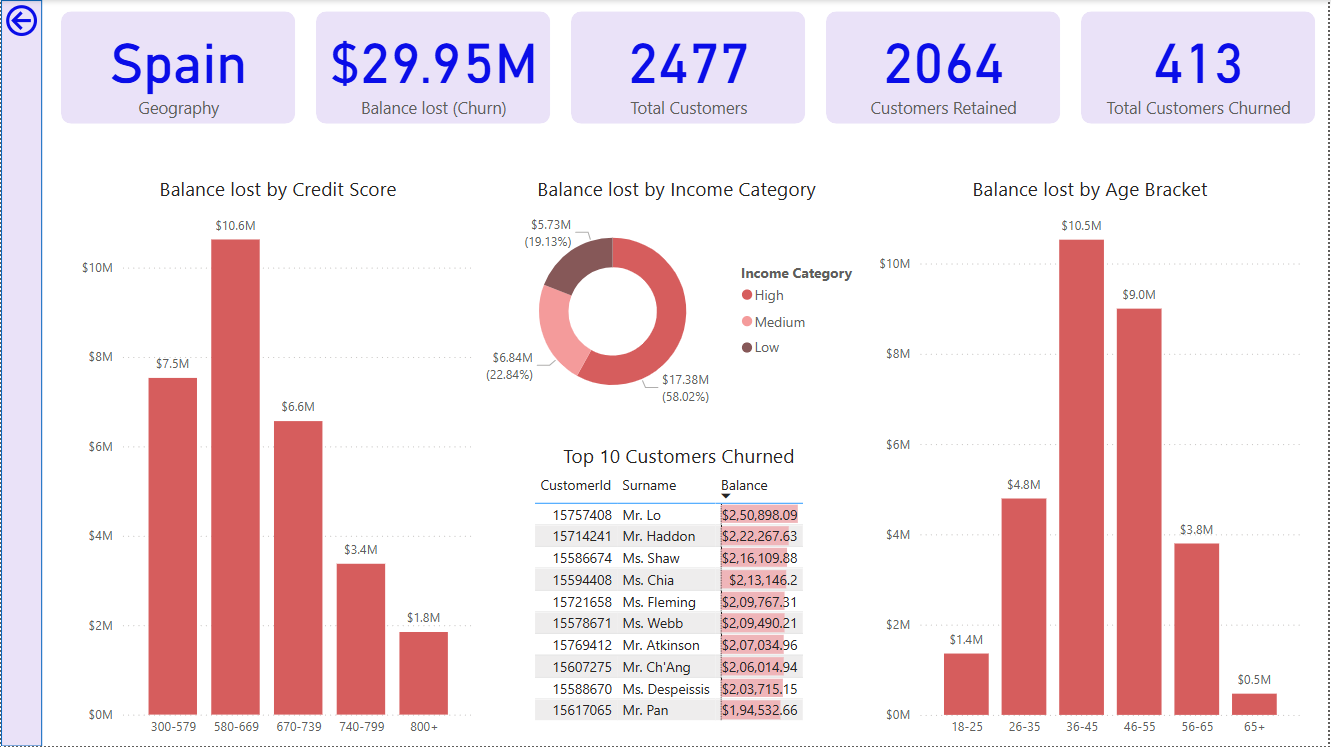

The page's visual inventory and layout, read from the dashboard file:
{"tool":"powerbi","page":{"name":"Churn Balance (Drillthrough)","canvas":[1280,720],"ordinal":3},"visuals":[{"type":"shape","box":[0,0,39.7,720.5],"z":0},{"type":"actionButton","box":[0,0,100,39.7],"z":1000},{"type":"shape","box":[57.9,10.9,226.1,108.7],"z":1000,"group":"g5"},{"type":"shape","box":[304.3,10.9,226.1,108.7],"z":1000,"group":"g4"},{"type":"shape","box":[550.3,10.9,226.1,108.7],"z":1000,"group":"g2"},{"type":"shape","box":[796.2,10.9,226.1,108.7],"z":1000,"group":"g3"},{"type":"shape","box":[1042.2,10.9,226.1,108.7],"z":1000,"group":"g1"},{"type":"donutChart","title":"Balance lost by Income Category","fields":{"Y":["Measure Table.Balance lost (Churn)"],"Category":["Bank_Churn.Income Category"]},"box":[462.1,168.9,380,238.9],"z":2000},{"type":"clusteredColumnChart","title":"Balance lost by Age Bracket","fields":{"Category":["Bank_Churn.Age Bracket"],"Y":["Measure Table.Balance lost (Churn)"]},"box":[842.3,169.2,417.9,551.3],"z":3000},{"type":"clusteredColumnChart","title":"Balance lost by Credit Score","fields":{"Y":["Measure Table.Balance lost (Churn)"],"Category":["Bank_Churn.Credit Score"]},"box":[72,169,390,551],"z":4000},{"type":"tableEx","title":"Top 10 Customers Churned","fields":{"Values":["Bank_Churn.CustomerId","Bank_Churn.Surname","Bank_Churn.Balance"]},"box":[494.3,427.1,304.3,292.9],"z":5000},{"type":"group","id":"g1","title":"Group 2","box":[1042.2,10.9,226.1,108.7],"z":6000,"group":"g6"},{"type":"group","id":"g2","title":"Group 2","box":[550.3,10.9,226.1,108.7],"z":7000,"group":"g6"},{"type":"group","id":"g3","title":"Group 2","box":[796.2,10.9,226.1,108.7],"z":8000,"group":"g6"},{"type":"group","id":"g4","title":"Group 2","box":[304.3,10.9,226.1,108.7],"z":9000,"group":"g6"},{"type":"card","fields":{"Values":["Min(Bank_Churn.Geography)"]},"box":[60.1,11.4,222.8,108.7],"z":9000,"group":"g5"},{"type":"card","fields":{"Values":["Measure Table.Balance lost (Churn)"]},"box":[306.5,11.4,222.8,108.7],"z":9000,"group":"g4"},{"type":"card","fields":{"Values":["Measure Table.Total Customers"]},"box":[552.5,11.4,222.8,108.7],"z":9000,"group":"g2"},{"type":"card","fields":{"Values":["Measure Table.Customers Retained"]},"box":[798.4,11.4,222.8,108.7],"z":9000,"group":"g3"},{"type":"card","fields":{"Values":["Measure Table.Total Customers Churned"]},"box":[1044.4,11.4,222.8,108.7],"z":9000,"group":"g1"},{"type":"group","id":"g5","title":"Group 2","box":[57.9,10.9,226.5,108.2],"z":10000,"group":"g6"},{"type":"group","id":"g6","title":"Group 1","box":[57.9,10.9,1210.1,108.6],"z":10001}]}

Visuals, with their boxes in screenshot pixels (x1, y1, x2, y2), scaled from the page's 1280x720 canvas onto the 1331x747 screenshot:
shape: bbox(0, 0, 41, 746)
actionButton: bbox(0, 0, 104, 41)
shape: bbox(60, 11, 295, 124)
shape: bbox(316, 11, 552, 124)
shape: bbox(572, 11, 807, 124)
shape: bbox(828, 11, 1063, 124)
shape: bbox(1084, 11, 1319, 124)
"Balance lost by Income Category" donutChart: bbox(481, 175, 876, 423)
"Balance lost by Age Bracket" clusteredColumnChart: bbox(876, 176, 1310, 746)
"Balance lost by Credit Score" clusteredColumnChart: bbox(75, 175, 480, 746)
"Top 10 Customers Churned" tableEx: bbox(514, 443, 830, 746)
"Group 2" group: bbox(1084, 11, 1319, 124)
"Group 2" group: bbox(572, 11, 807, 124)
"Group 2" group: bbox(828, 11, 1063, 124)
"Group 2" group: bbox(316, 11, 552, 124)
card - Min(Bank_Churn.Geography): bbox(62, 12, 294, 125)
card - Measure Table.Balance lost (Churn): bbox(319, 12, 550, 125)
card - Measure Table.Total Customers: bbox(575, 12, 806, 125)
card - Measure Table.Customers Retained: bbox(830, 12, 1062, 125)
card - Measure Table.Total Customers Churned: bbox(1086, 12, 1318, 125)
"Group 2" group: bbox(60, 11, 296, 124)
"Group 1" group: bbox(60, 11, 1319, 124)
